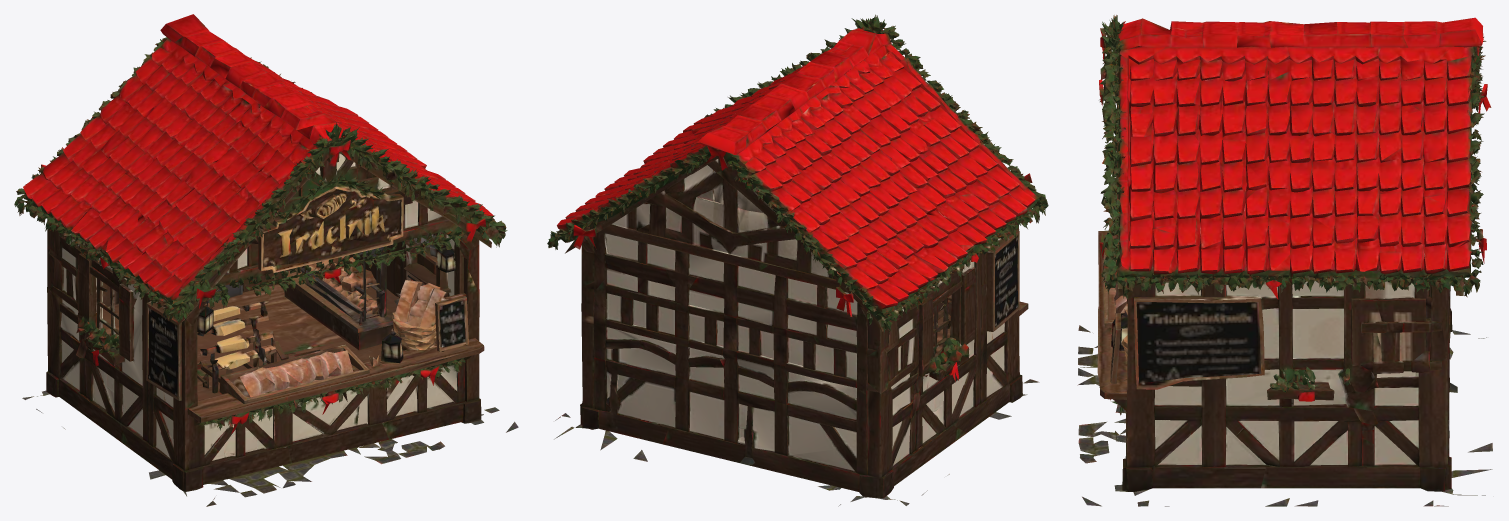
The model's file is trdelnik.glb.
The picture shows the model from 3 angles, left to right: view 1: azimuth 30°, elevation 25°; view 2: azimuth 150°, elevation 25°; view 3: azimuth 270°, elevation 25°; orthographic projection. The views are drawn at different scales.
Visible parts, largest first — view 1: s.glb; view 2: s.glb; view 3: s.glb.
Boxes of the visible parts, <box> form: s.glb: <box>14,14,518,506</box>; s.glb: <box>547,14,1048,506</box>; s.glb: <box>1077,15,1492,506</box>.
Bounding box in the file's own units: 1.88 × 1.75 × 1.68.
Materials: 1 (1 with a texture image).
